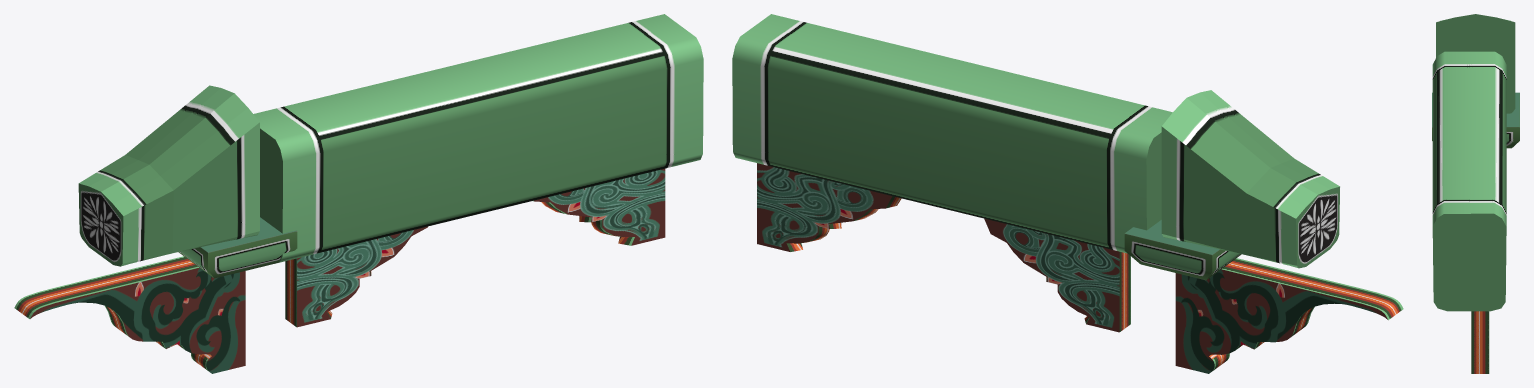
Rendered from SM_R_Beam_12.fbx.
3 views of the same model, side by side, from view 1: azimuth 30°, elevation 25°; view 2: azimuth 150°, elevation 25°; view 3: azimuth 270°, elevation 25° (orthographic). The views are drawn at different scales.
Parts seen in each view (by area): view 1: SM_R_Beam_12; view 2: SM_R_Beam_12; view 3: SM_R_Beam_12.
Part boxes in pixels (bbox=[...]): SM_R_Beam_12: bbox=[14, 14, 703, 373]; SM_R_Beam_12: bbox=[732, 14, 1403, 373]; SM_R_Beam_12: bbox=[1432, 14, 1519, 373].
Size of the model in its own units: 223 by 32.84 by 87.18.
3 materials, 3 textured.
